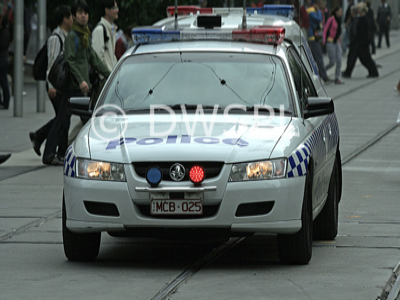licence: (150, 199, 203, 213)
